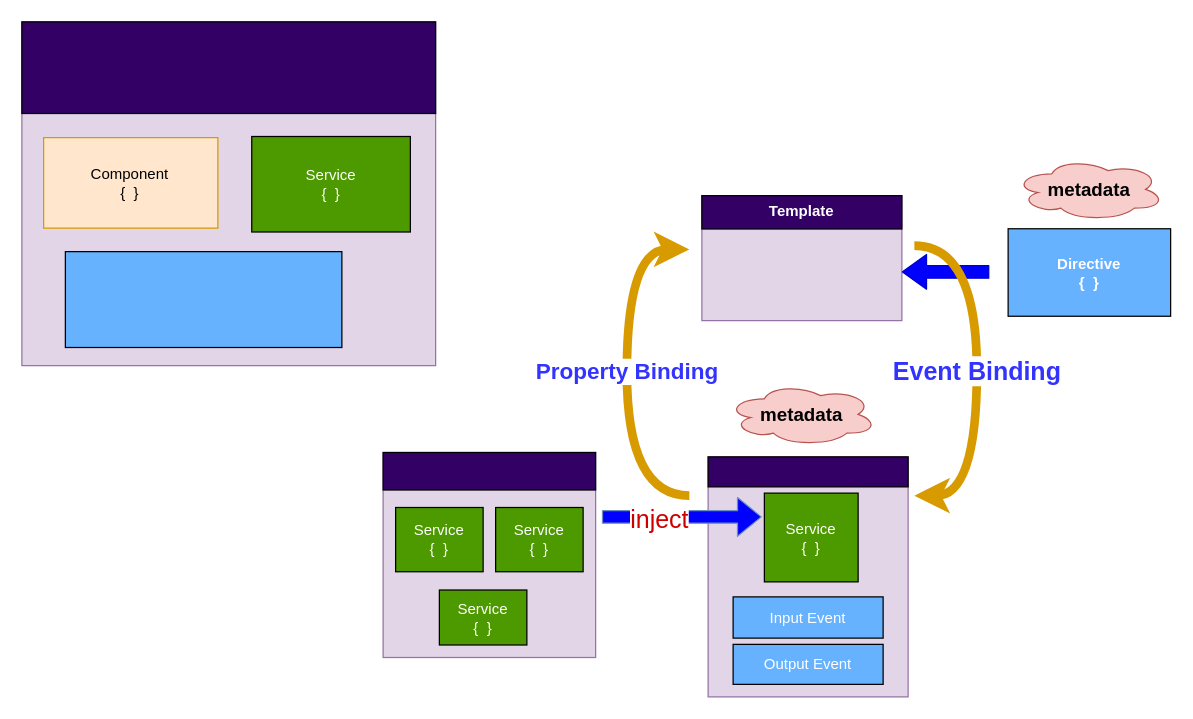
Some shapes in this 1193 by 719 pixel diagram are drawn without their labels. Each missing label, with the box of its shape:
<HTML Tags> or <Directive>: (701, 194, 902, 321)
Component: (707, 456, 908, 487)
Dependency Injector: (382, 451, 596, 490)
External Module { }: (64, 250, 342, 348)
Module: (21, 21, 436, 114)
